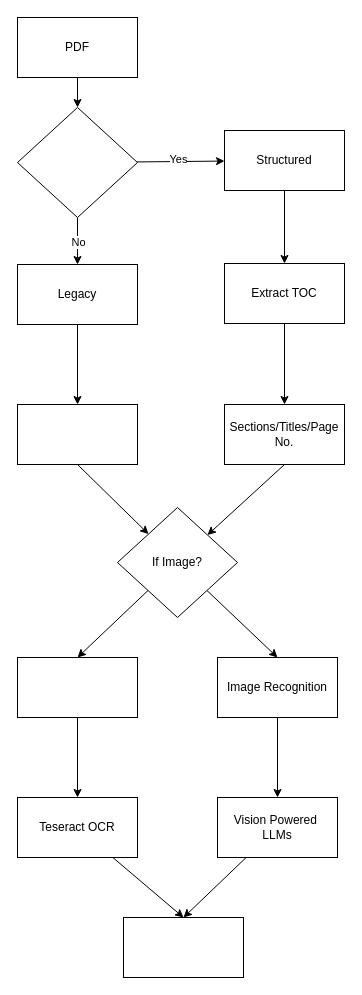
Some shapes in this 362 by 995 pixel diagram are drawn without their labels. The shapes that lost their labels are listed below. From the top down, each one's centre as x and y in pixels, then its label:
At (77,162): "If TOCs are Awailable?".
At (77,434): "Split by Chunks".
At (77,687): "OCR".
At (183,947): "JSON".
